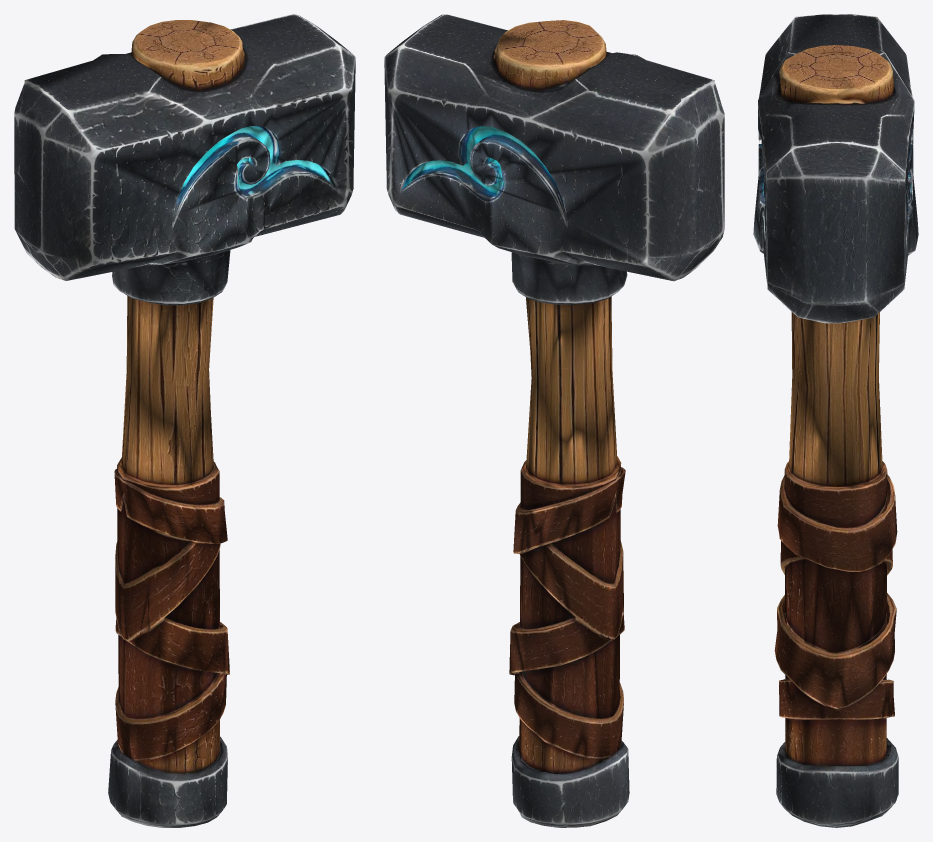
File: hammer.glb
The picture shows the model from 3 angles, left to right: view 1: azimuth 30°, elevation 25°; view 2: azimuth 150°, elevation 25°; view 3: azimuth 270°, elevation 25°; orthographic projection.
Parts seen in each view (by area): view 1: baum; view 2: baum; view 3: baum.
Part boxes in pixels (box(x1,y1,x2,y2)): baum: box(14, 14, 355, 827); baum: box(384, 14, 724, 827); baum: box(753, 14, 918, 827).
Bounding box in the file's own units: 0.2115 × 0.5 × 0.0992.
Materials: 1 (1 with a texture image).
